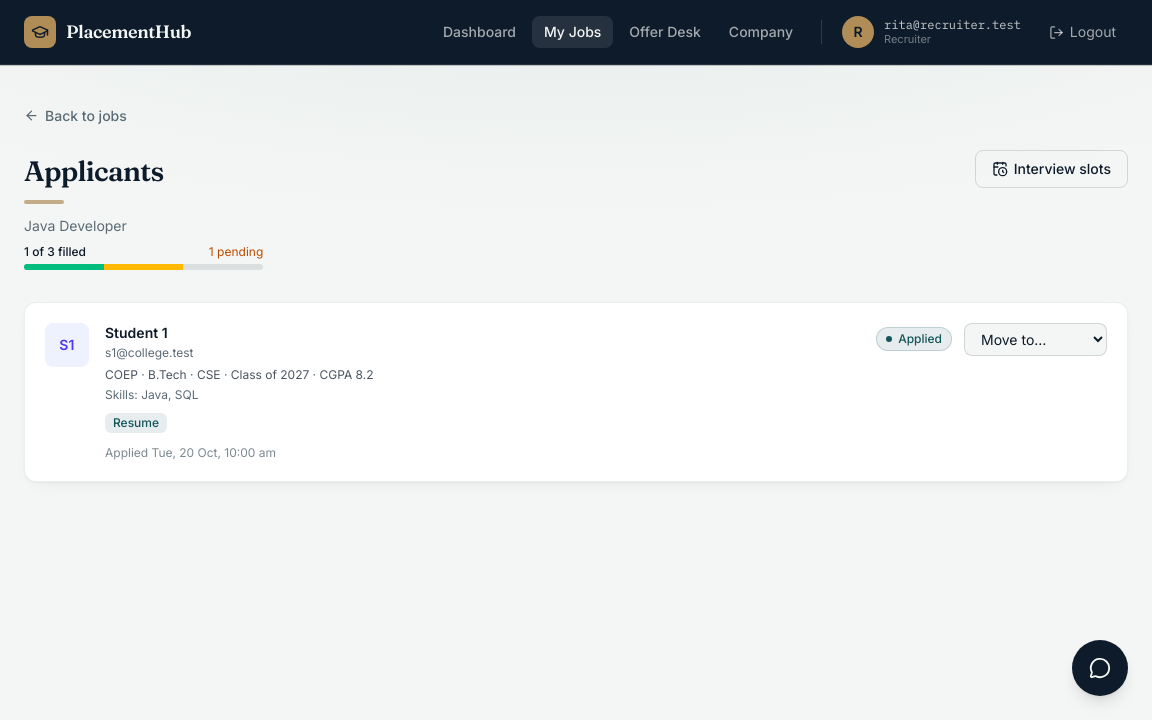
Applicants page › explains a conflicting update and shows the latest state
This screenshot has width=1152, height=720.
Select "SHORTLISTED" in the dropdown: (1036, 339) [964, 322, 1107, 356]
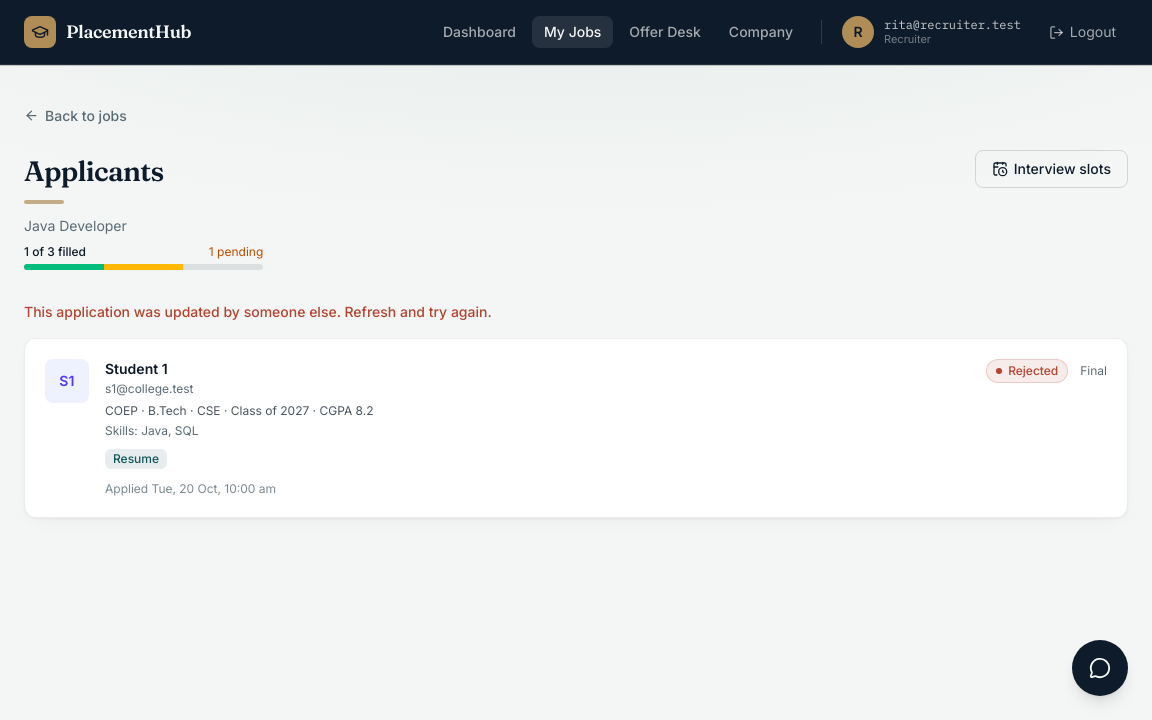
Now the text "updated by someone else" is shown, box [24, 302, 492, 320]
Now the text "Final" is shown, box [1080, 362, 1107, 378]
